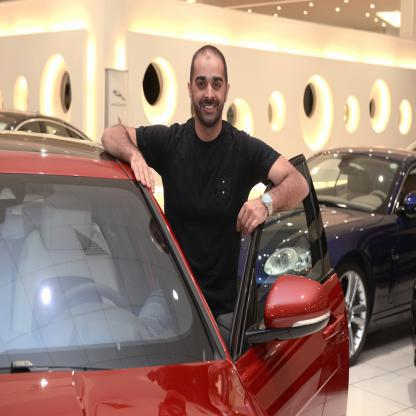car: (1, 128, 352, 416), (243, 145, 412, 352), (1, 108, 94, 142)
